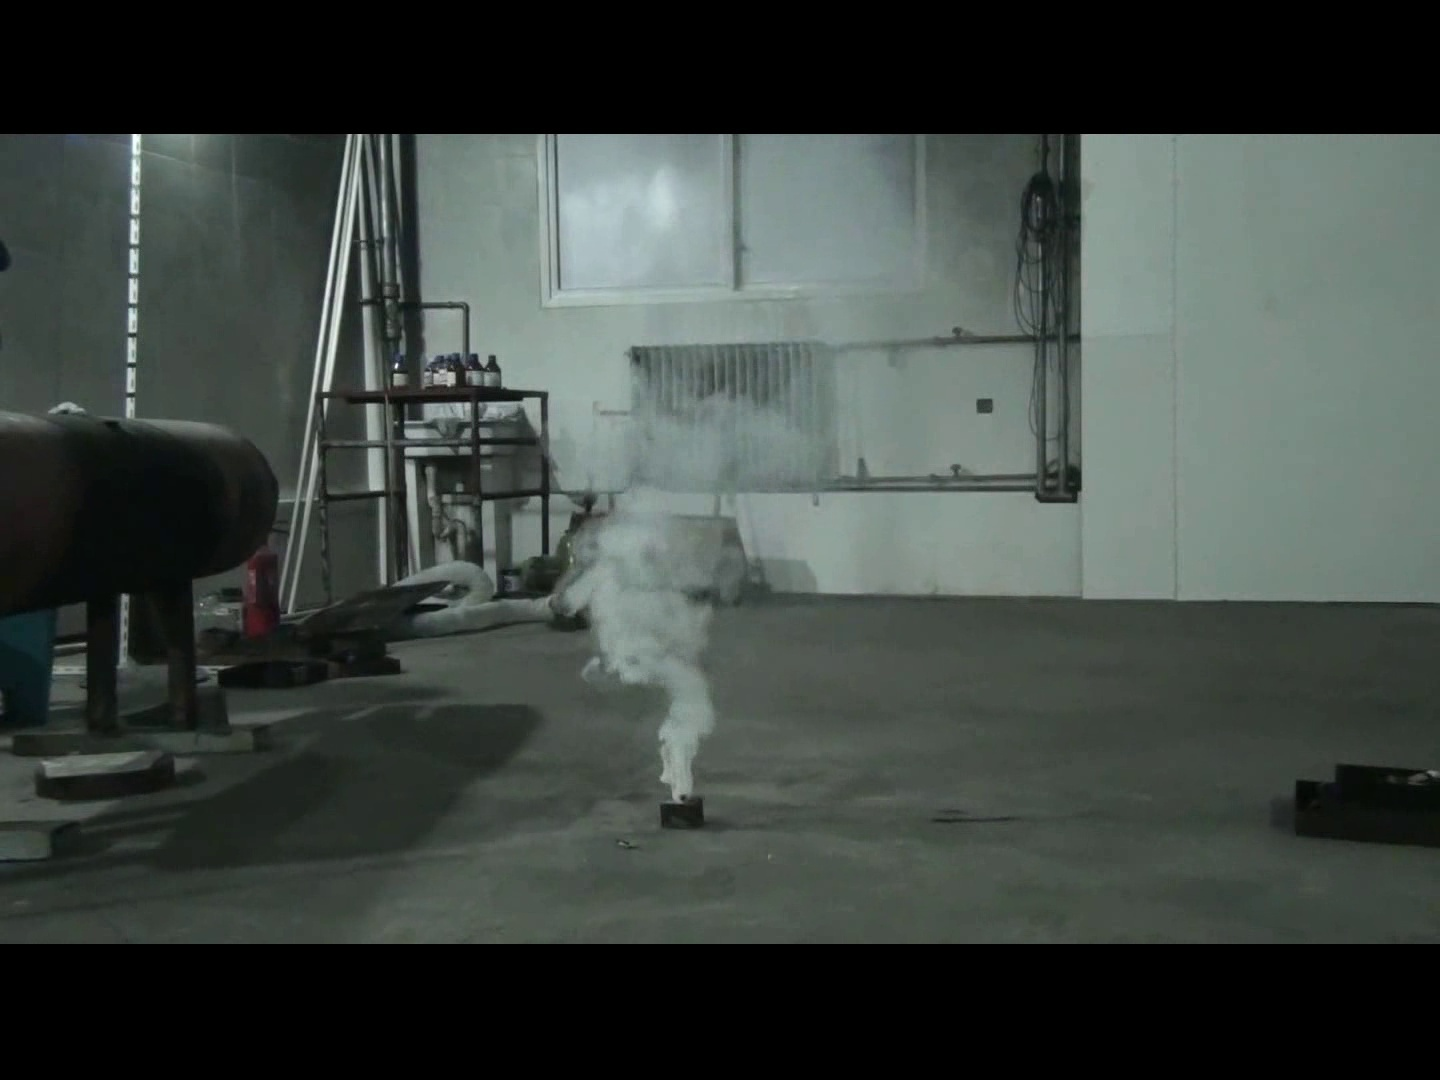smoke: (561, 373, 835, 796)
